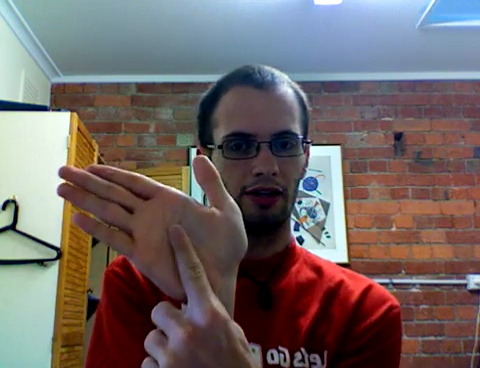L: (35, 152, 258, 368)
